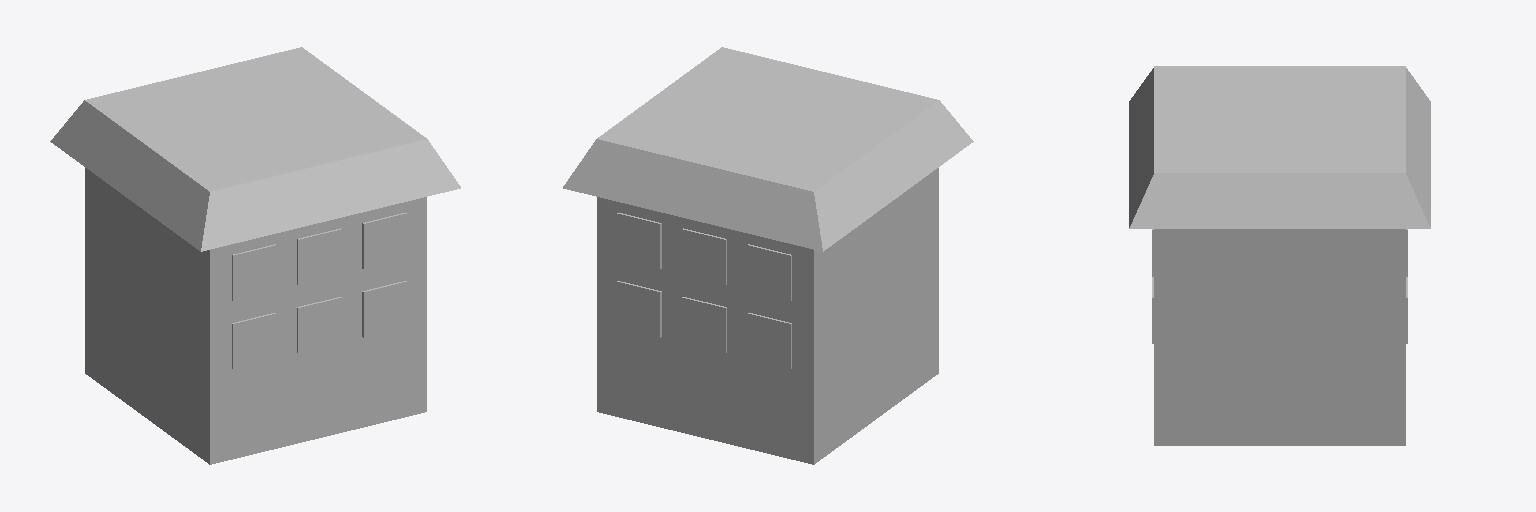
The picture shows the model from 3 angles: view 1: azimuth 30°, elevation 25°; view 2: azimuth 150°, elevation 25°; view 3: azimuth 270°, elevation 25°; orthographic projection.
Parts seen in each view (by area): view 1: box[number redacted], box[number redacted], box[number redacted], box[number redacted], box[number redacted], box[number redacted], box[number redacted], box[number redacted]; view 2: box[number redacted], box[number redacted], box[number redacted], box[number redacted], box, box[number redacted], box[number redacted], box[number redacted]; view 3: box[number redacted], box[number redacted].
Boxes of the visible parts, box(x1,y1,x2,y2) form: box[number redacted]: box(85, 168, 426, 464); box[number redacted]: box(50, 47, 460, 251); box[number redacted]: box(362, 281, 406, 337); box[number redacted]: box(232, 244, 276, 300); box[number redacted]: box(297, 297, 341, 353); box[number redacted]: box(297, 228, 341, 284); box[number redacted]: box(232, 313, 276, 368); box[number redacted]: box(362, 213, 406, 268); box[number redacted]: box(597, 168, 938, 464); box[number redacted]: box(563, 47, 973, 251); box[number redacted]: box(617, 281, 661, 337); box[number redacted]: box(747, 244, 791, 300); box: box(682, 297, 726, 353); box[number redacted]: box(682, 228, 726, 284); box[number redacted]: box(747, 313, 791, 368); box[number redacted]: box(617, 213, 661, 268); box[number redacted]: box(1154, 229, 1405, 445); box[number redacted]: box(1129, 66, 1430, 228).
Bounding box in the file's own units: 12 × 12 × 12.